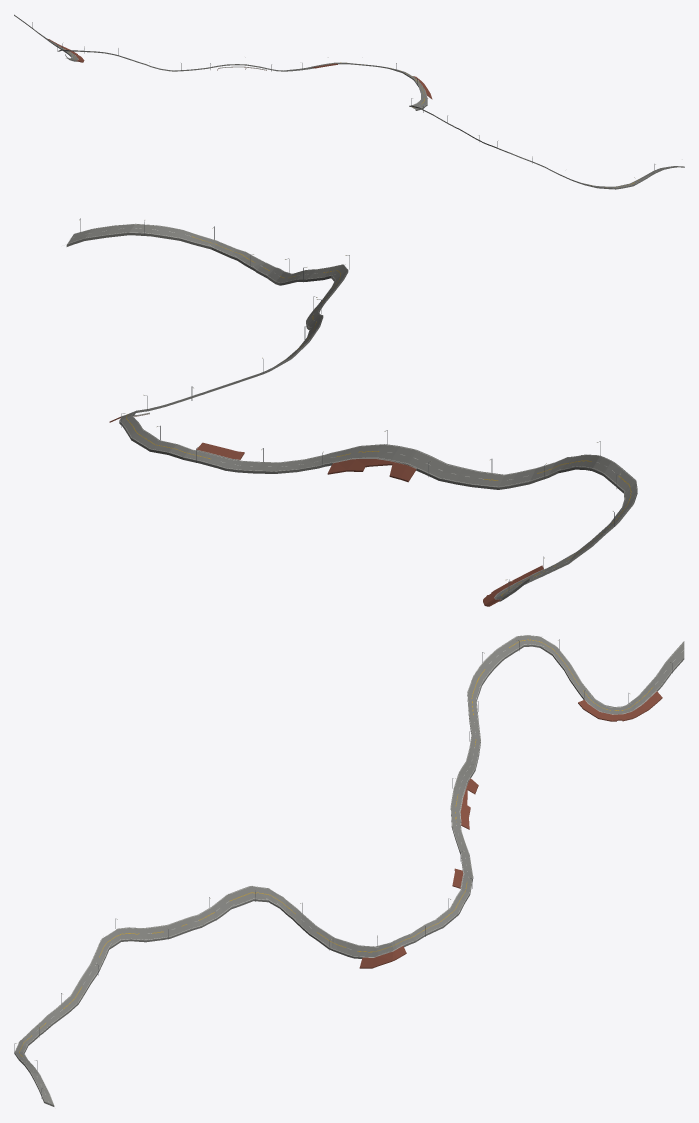
The model's file is 15-27371-14871.58faa64b.glb.
3 renders of one model, top to bottom at view 1: azimuth 30°, elevation 25°; view 2: azimuth 150°, elevation 25°; view 3: azimuth 270°, elevation 25°, orthographic. The views are drawn at different scales.
Bounding box in the file's own units: 490 × 116 × 434.
